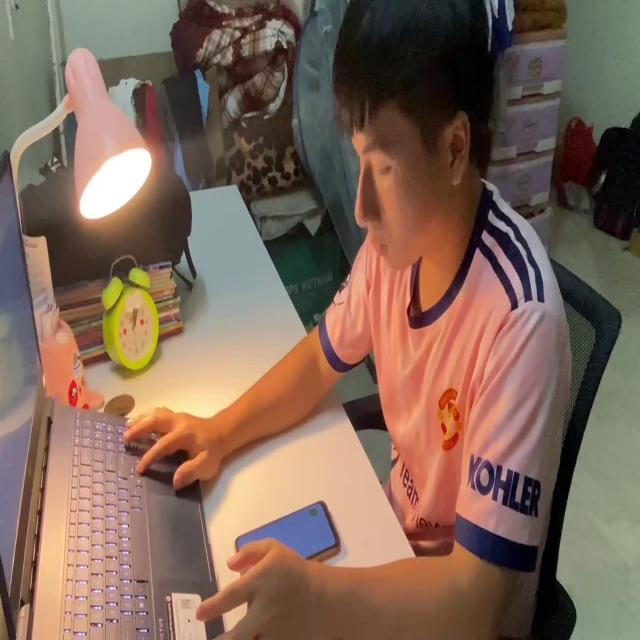laptop: (0, 143, 232, 640)
phone: (234, 496, 343, 568)
student: (122, 0, 574, 640)
